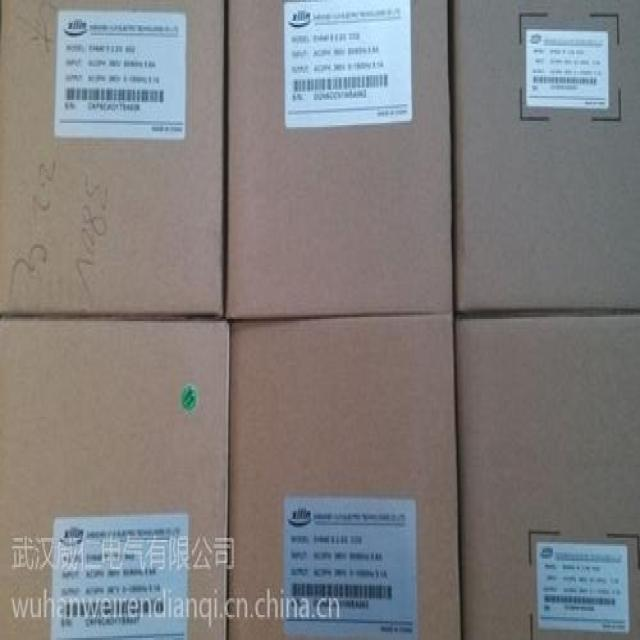box: (229, 314, 461, 638), (0, 320, 229, 638), (225, 0, 453, 319), (1, 1, 225, 318), (456, 314, 639, 637), (451, 0, 639, 311)
